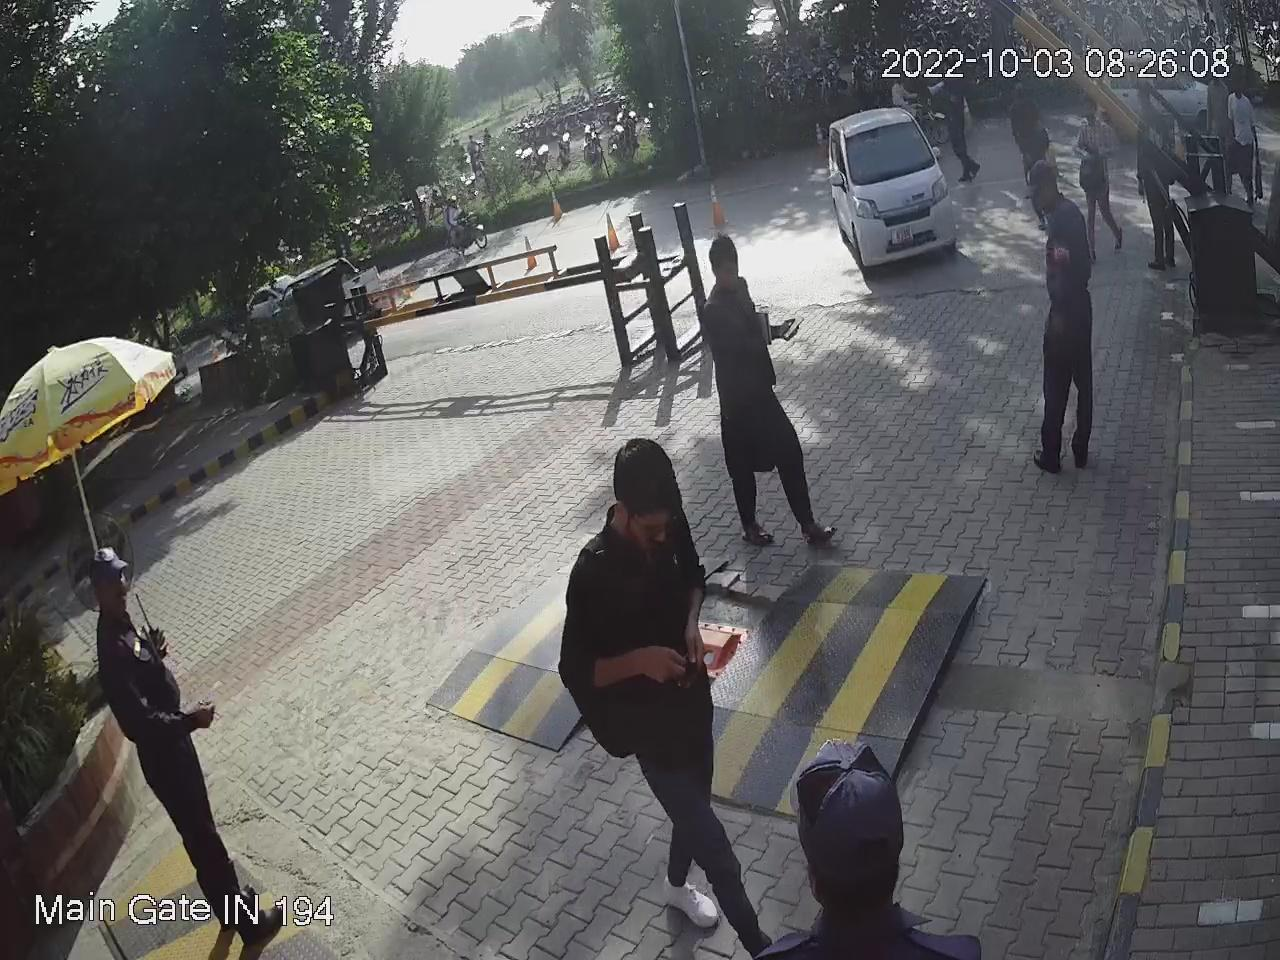windshield: (844, 118, 935, 183)
